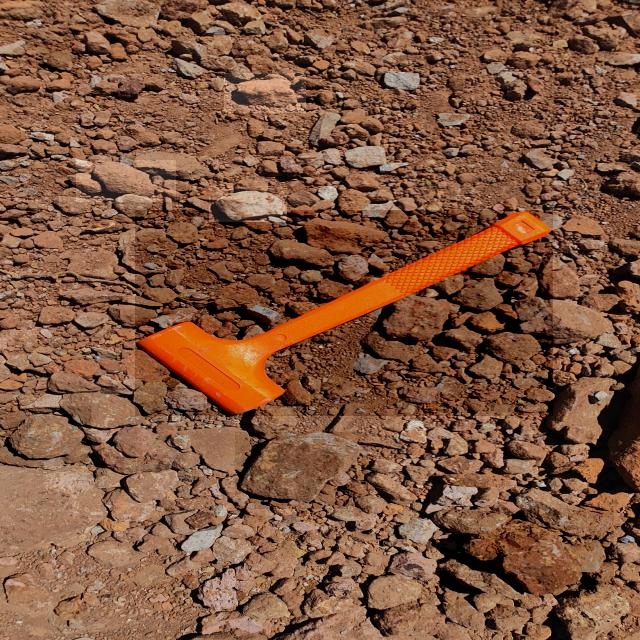Orange_hammer: (135, 210, 553, 416)
rock: (440, 502, 610, 596), (474, 508, 614, 598), (235, 432, 368, 509), (0, 406, 91, 466), (76, 160, 176, 202), (224, 74, 306, 114), (209, 186, 287, 222), (426, 105, 486, 135), (36, 42, 82, 76)
